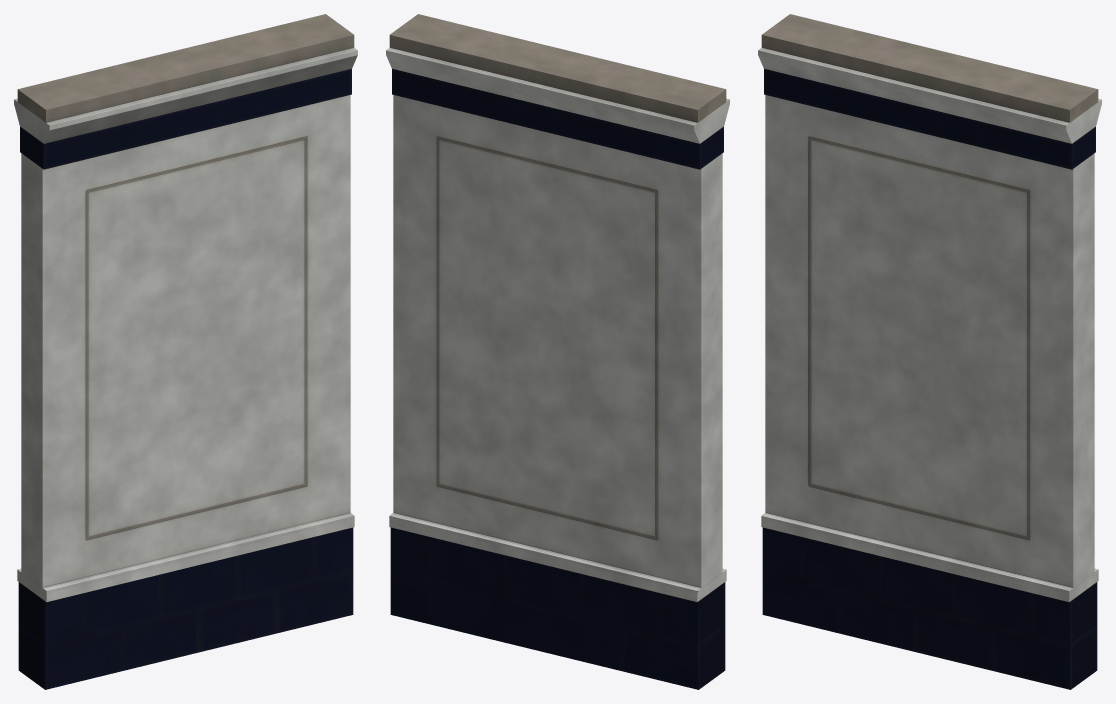
File: charter_wall.glb
3 views of the same model, side by side, from view 1: azimuth 30°, elevation 25°; view 2: azimuth 150°, elevation 25°; view 3: azimuth 330°, elevation 25° (orthographic).
Visible parts, largest first — view 1: charter_wall; view 2: charter_wall; view 3: charter_wall.
Boxes of the visible parts, left/top/right/bottom form: charter_wall: left=14, top=14, right=357, bottom=689; charter_wall: left=386, top=14, right=729, bottom=689; charter_wall: left=758, top=14, right=1101, bottom=689.
Bounding box in the file's own units: 2 × 3.6 × 0.4.
Materials: 1 (1 with a texture image).
